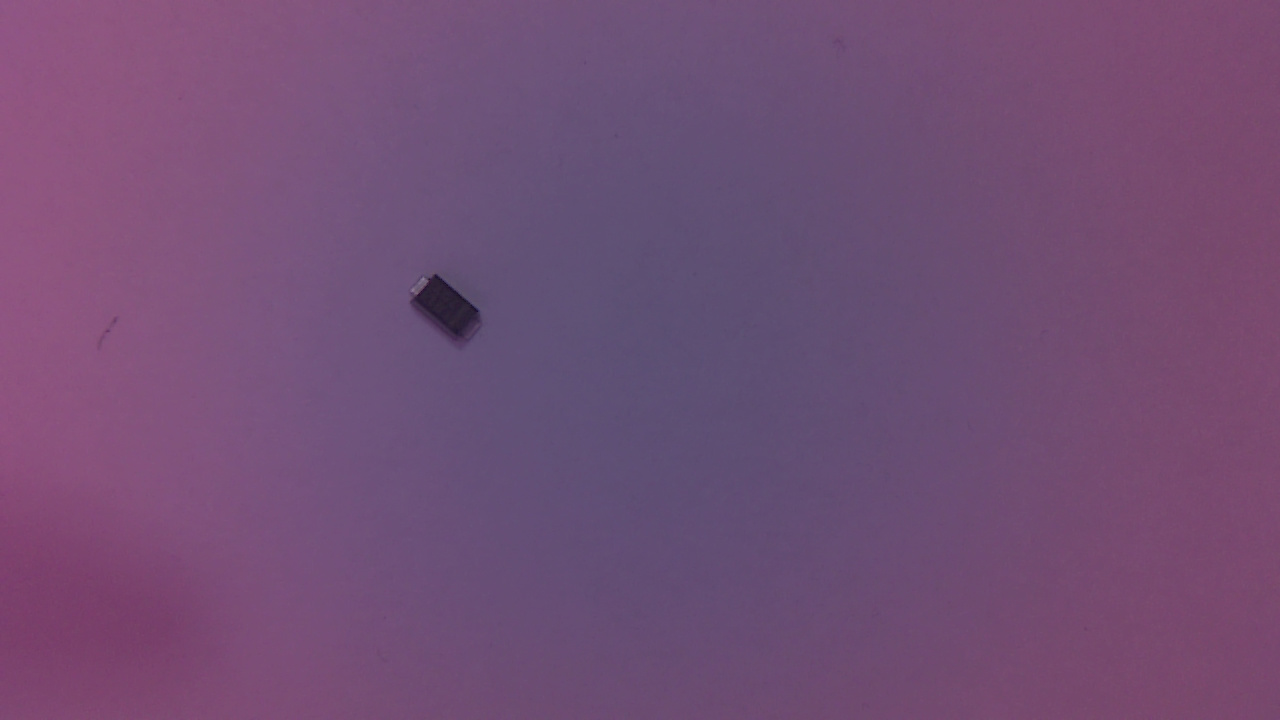Diode: (411, 277, 495, 351)
